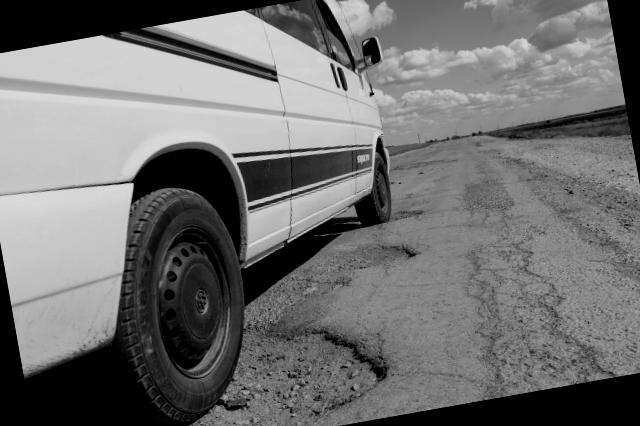Pothole: (11, 231, 455, 426)
